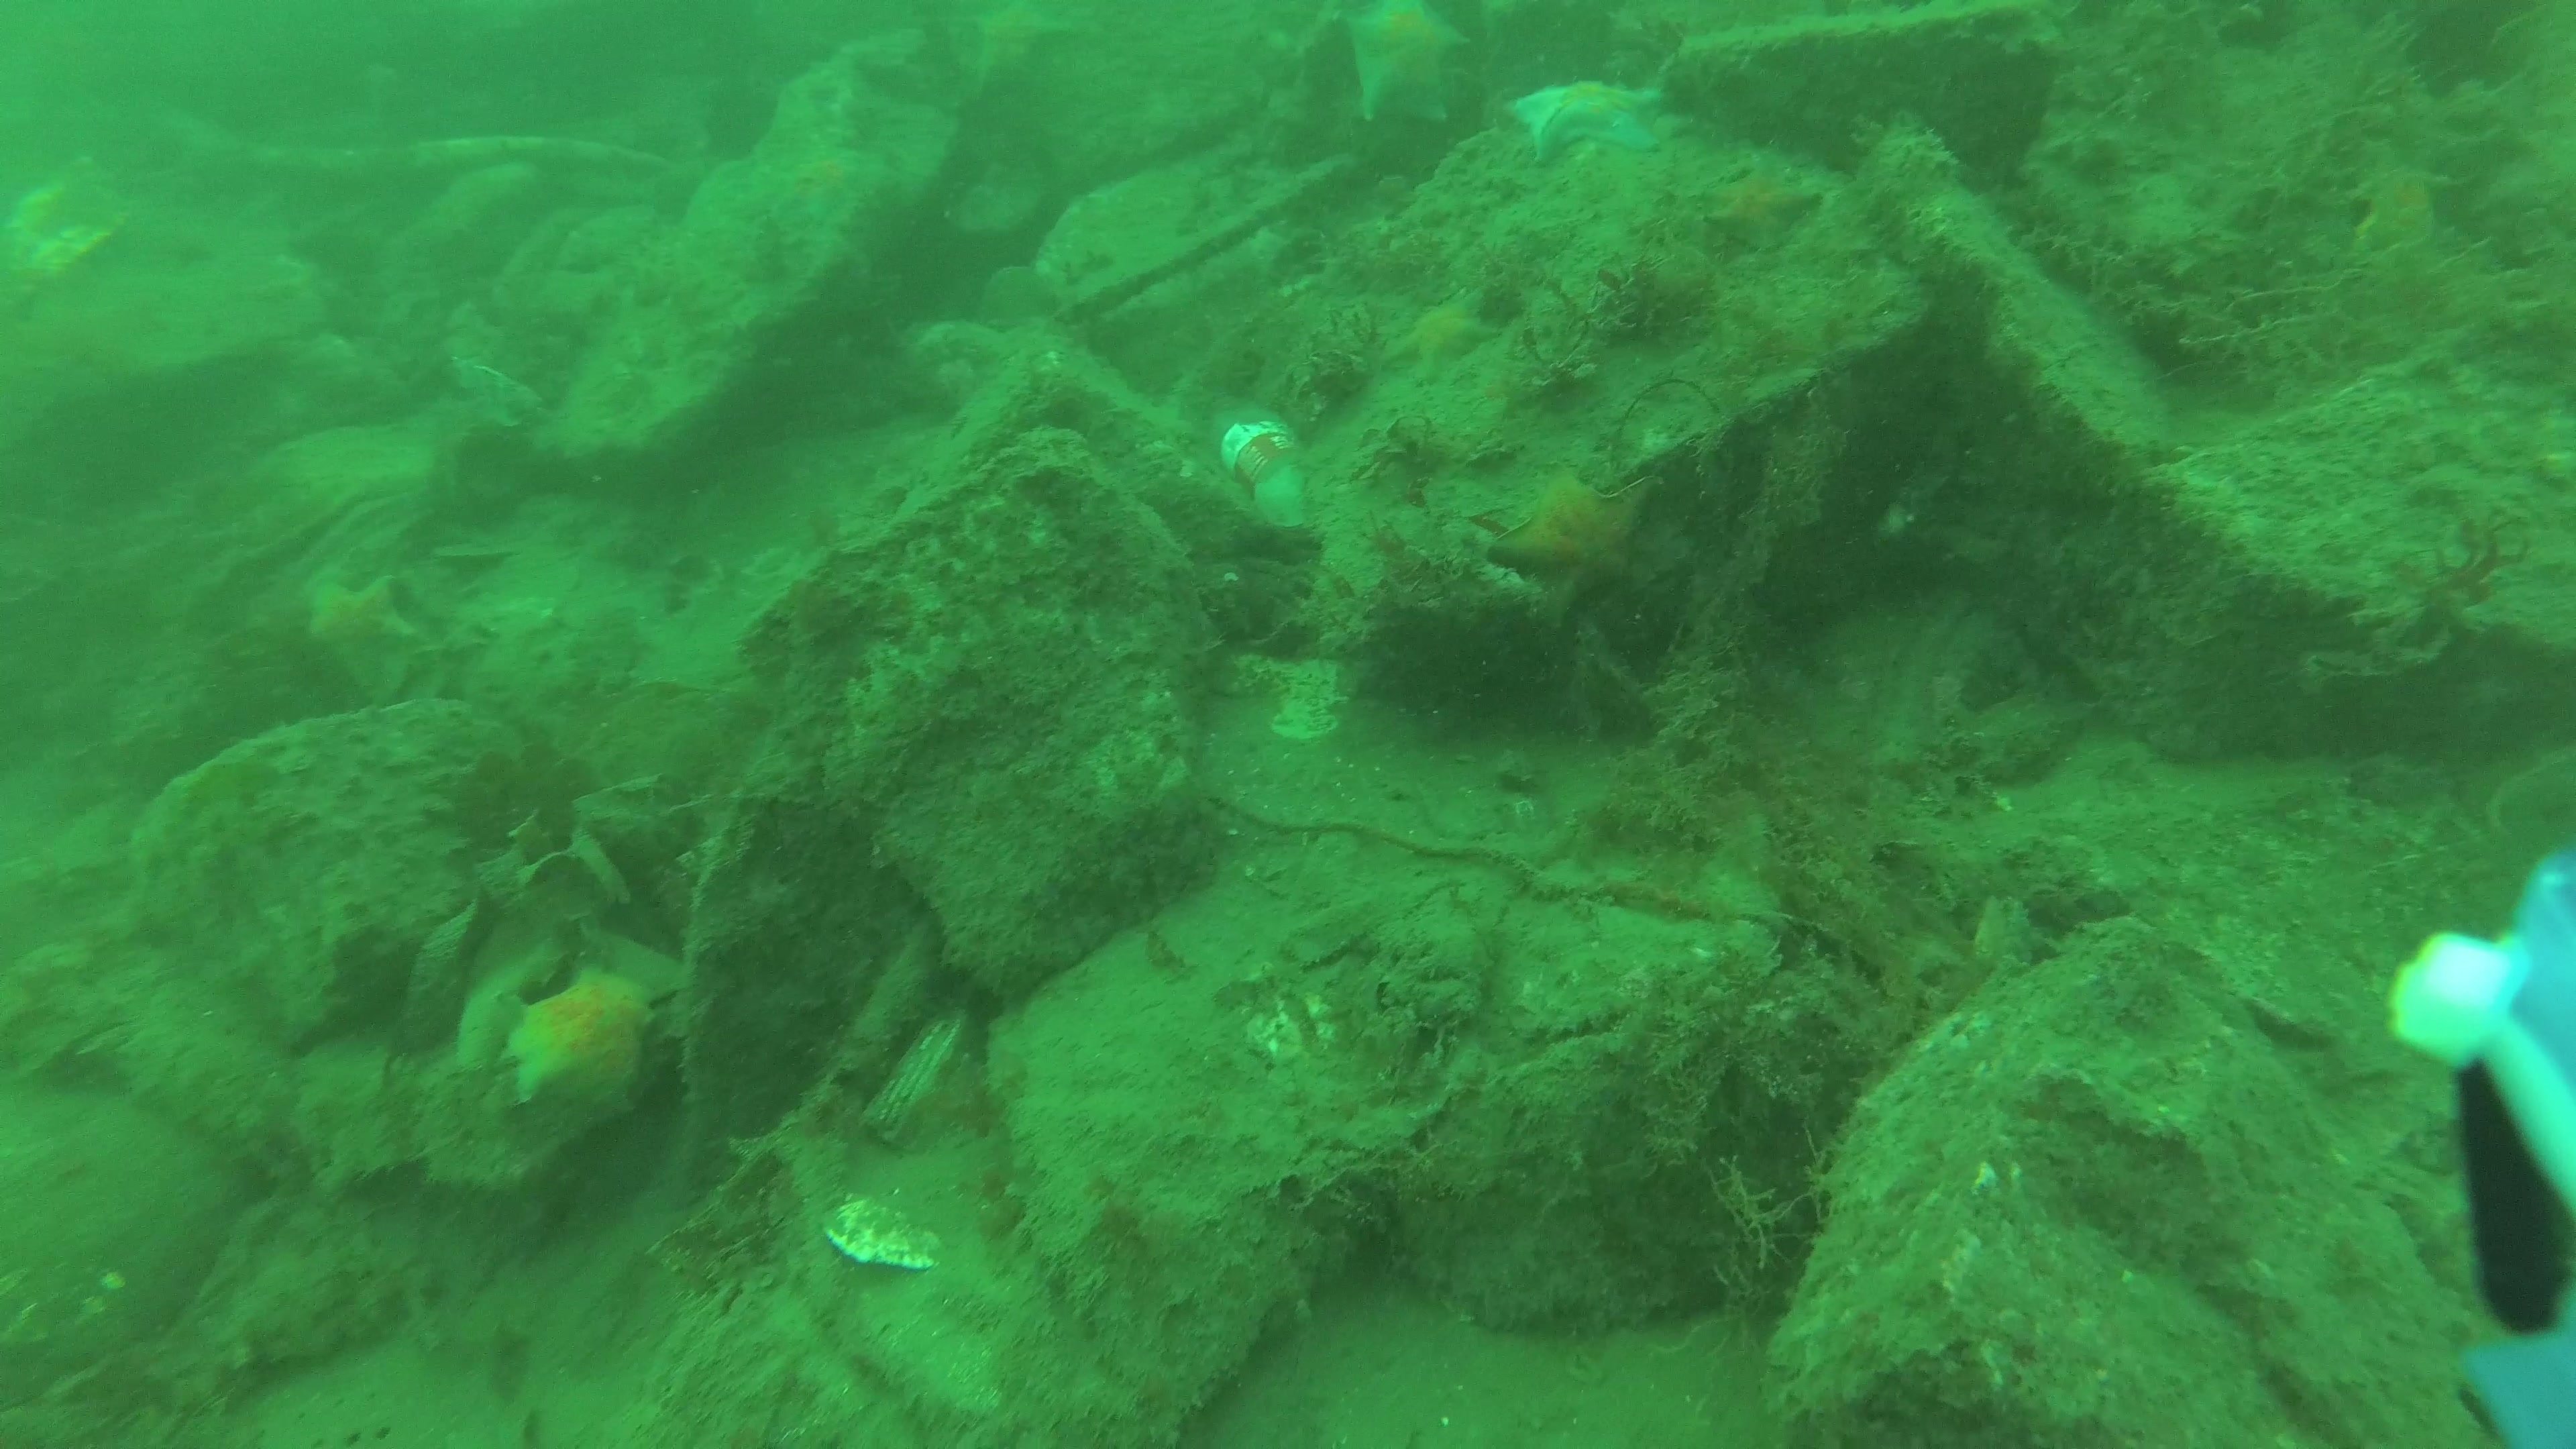scallop: (823, 1192, 939, 1274)
starfish: (499, 971, 651, 1106), (1497, 479, 1660, 602), (1341, 4, 1474, 126), (1507, 76, 1672, 166), (301, 573, 416, 676), (1384, 285, 1493, 375), (961, 11, 1044, 94)
